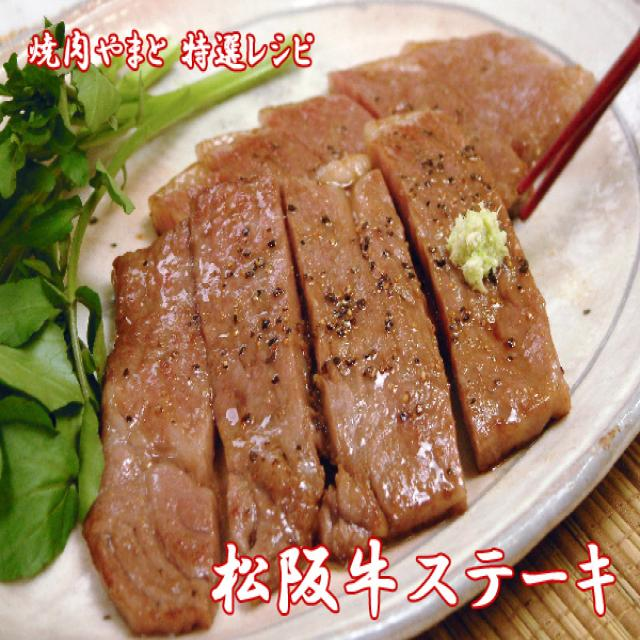牛肉菜式: (118, 94, 592, 529)
